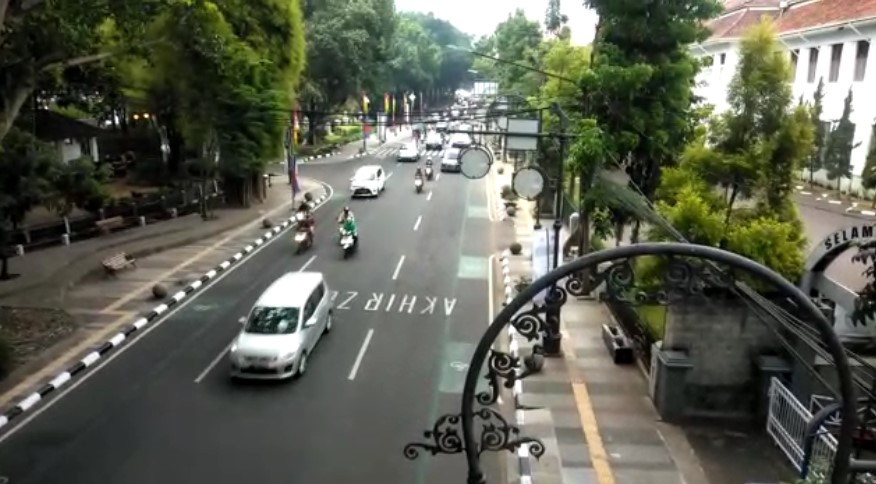mobil: (233, 271, 333, 387), (348, 165, 388, 199)
motor: (292, 213, 319, 250), (338, 217, 361, 255), (409, 169, 426, 192)
